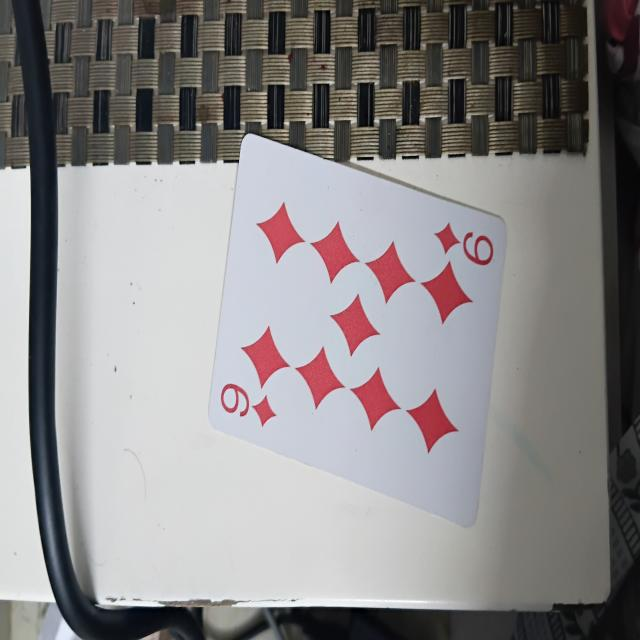9D: (207, 141, 508, 504)
